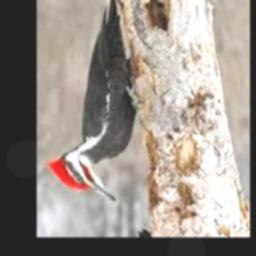Woodpecker: (47, 0, 138, 203)
